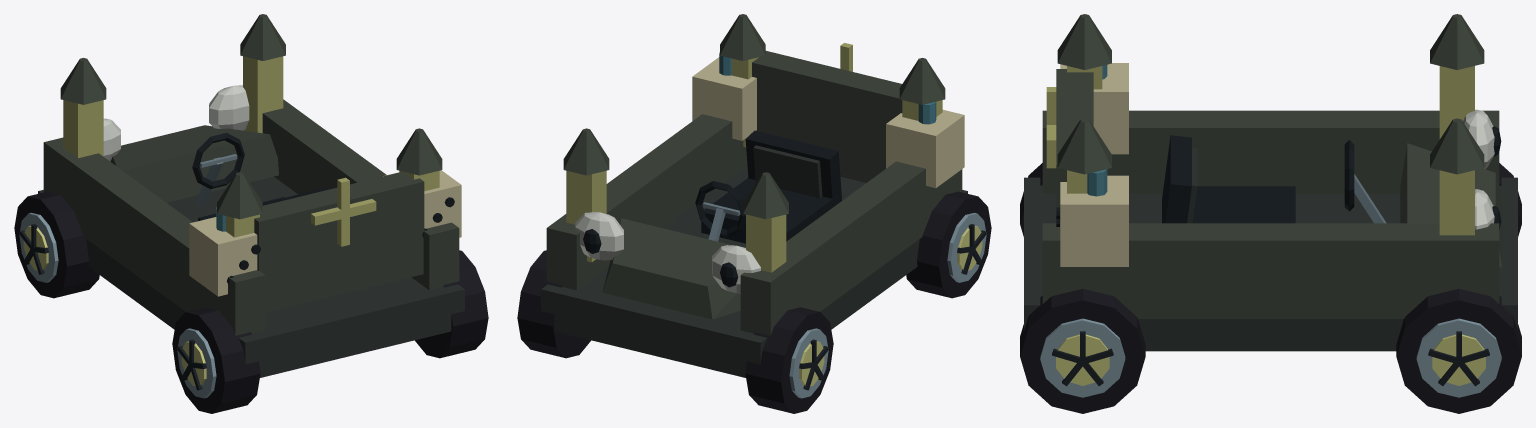
File: kart.glb
3 views of the same model, side by side, from view 1: azimuth 30°, elevation 25°; view 2: azimuth 150°, elevation 25°; view 3: azimuth 270°, elevation 25° (orthographic). The views are drawn at different scales.
Visible parts, largest first — view 1: identity-reliquary-reliquary-arched-stone-chest, wheel-rear-left, wheel-front-left, identity-reliquary-motif-dice, wheel-rear-right, identity-reliquary-motif-eyes, identity-reliquary-driver-cockpit; view 2: identity-reliquary-reliquary-arched-stone-chest, identity-reliquary-driver-cockpit, identity-reliquary-motif-dice, wheel-front-left, wheel-rear-left, identity-reliquary-motif-eyes, wheel-front-right, identity-reliquary-motif-bottles; view 3: identity-reliquary-reliquary-arched-stone-chest, wheel-front-right, wheel-rear-right, identity-reliquary-motif-dice, identity-reliquary-driver-cockpit, identity-reliquary-motif-eyes, identity-reliquary-motif-bottles.
Part boxes in pixels (left/top/right/bottom): identity-reliquary-reliquary-arched-stone-chest: left=38, top=14, right=464, bottom=377; wheel-rear-left: left=172, top=307, right=260, bottom=413; wheel-front-left: left=14, top=191, right=99, bottom=298; identity-reliquary-motif-dice: left=189, top=170, right=461, bottom=296; wheel-rear-right: left=415, top=250, right=488, bottom=358; identity-reliquary-motif-eyes: left=103, top=85, right=249, bottom=161; identity-reliquary-driver-cockpit: left=192, top=132, right=329, bottom=220; identity-reliquary-reliquary-arched-stone-chest: left=541, top=14, right=967, bottom=377; identity-reliquary-driver-cockpit: left=695, top=130, right=841, bottom=243; identity-reliquary-motif-dice: left=692, top=57, right=964, bottom=188; wheel-front-left: left=745, top=307, right=833, bottom=413; wheel-rear-left: left=906, top=191, right=991, bottom=298; identity-reliquary-motif-eyes: left=575, top=212, right=760, bottom=293; wheel-front-right: left=517, top=250, right=590, bottom=358; identity-reliquary-motif-bottles: left=719, top=52, right=936, bottom=124; identity-reliquary-reliquary-arched-stone-chest: left=1024, top=14, right=1517, bottom=351; wheel-front-right: left=1396, top=288, right=1521, bottom=413; wheel-rear-right: left=1020, top=288, right=1145, bottom=413; identity-reliquary-motif-dice: left=1056, top=63, right=1128, bottom=266; identity-reliquary-driver-cockpit: left=1162, top=135, right=1386, bottom=223; identity-reliquary-motif-eyes: left=1463, top=109, right=1501, bottom=229; identity-reliquary-motif-bottles: left=1087, top=65, right=1107, bottom=196.
Bounding box in the file's own units: 1.97 × 1.51 × 2.56.
